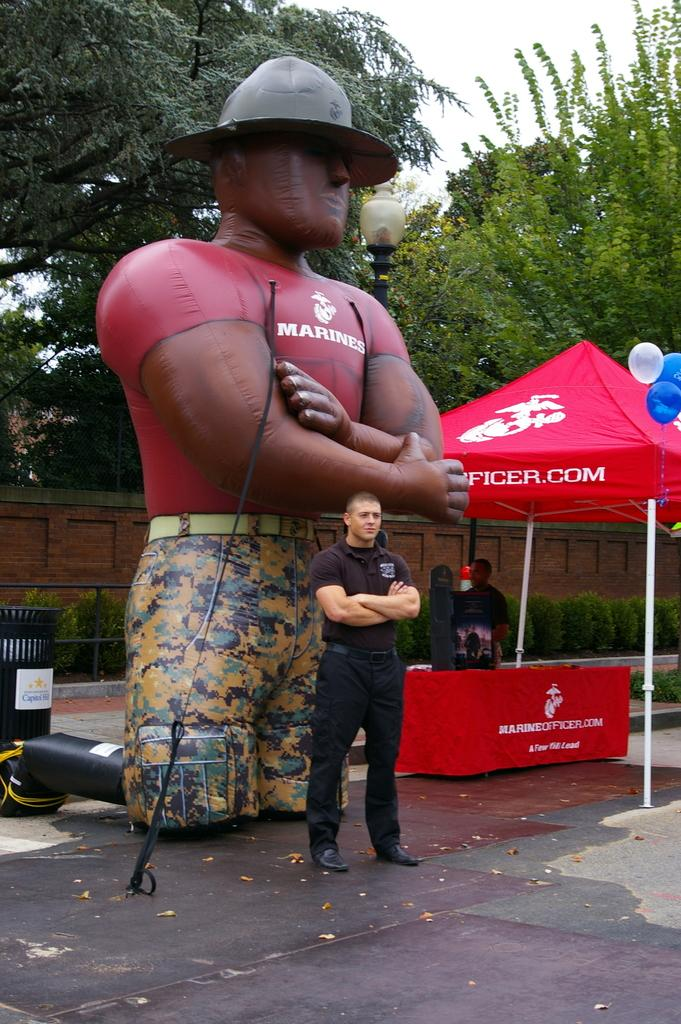Hat: (165, 58, 396, 186)
